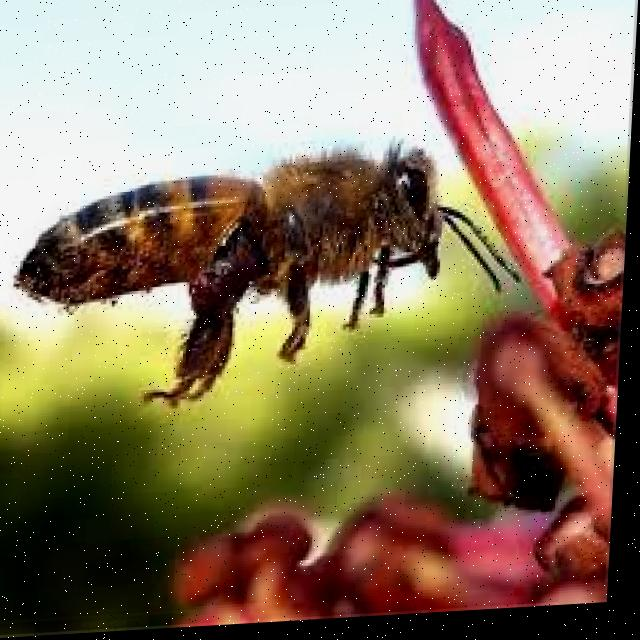Apis-mellifera-scutellata: (2, 109, 491, 419)
